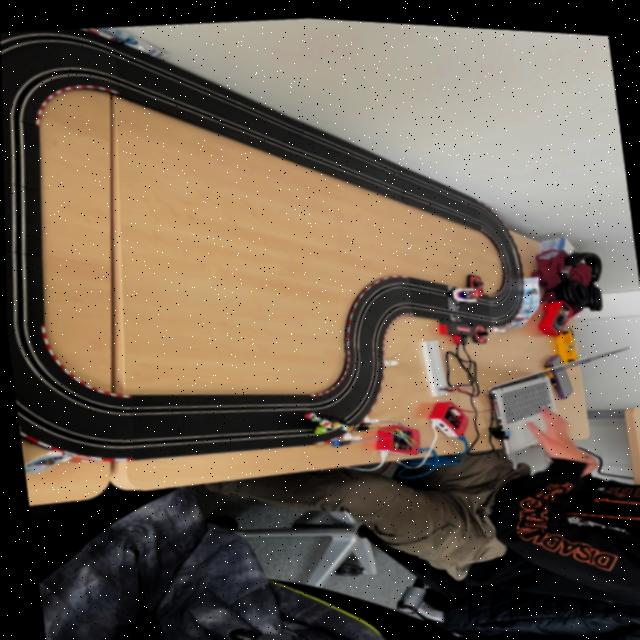mario: (446, 278, 484, 300)
yoshi: (297, 400, 355, 436)
